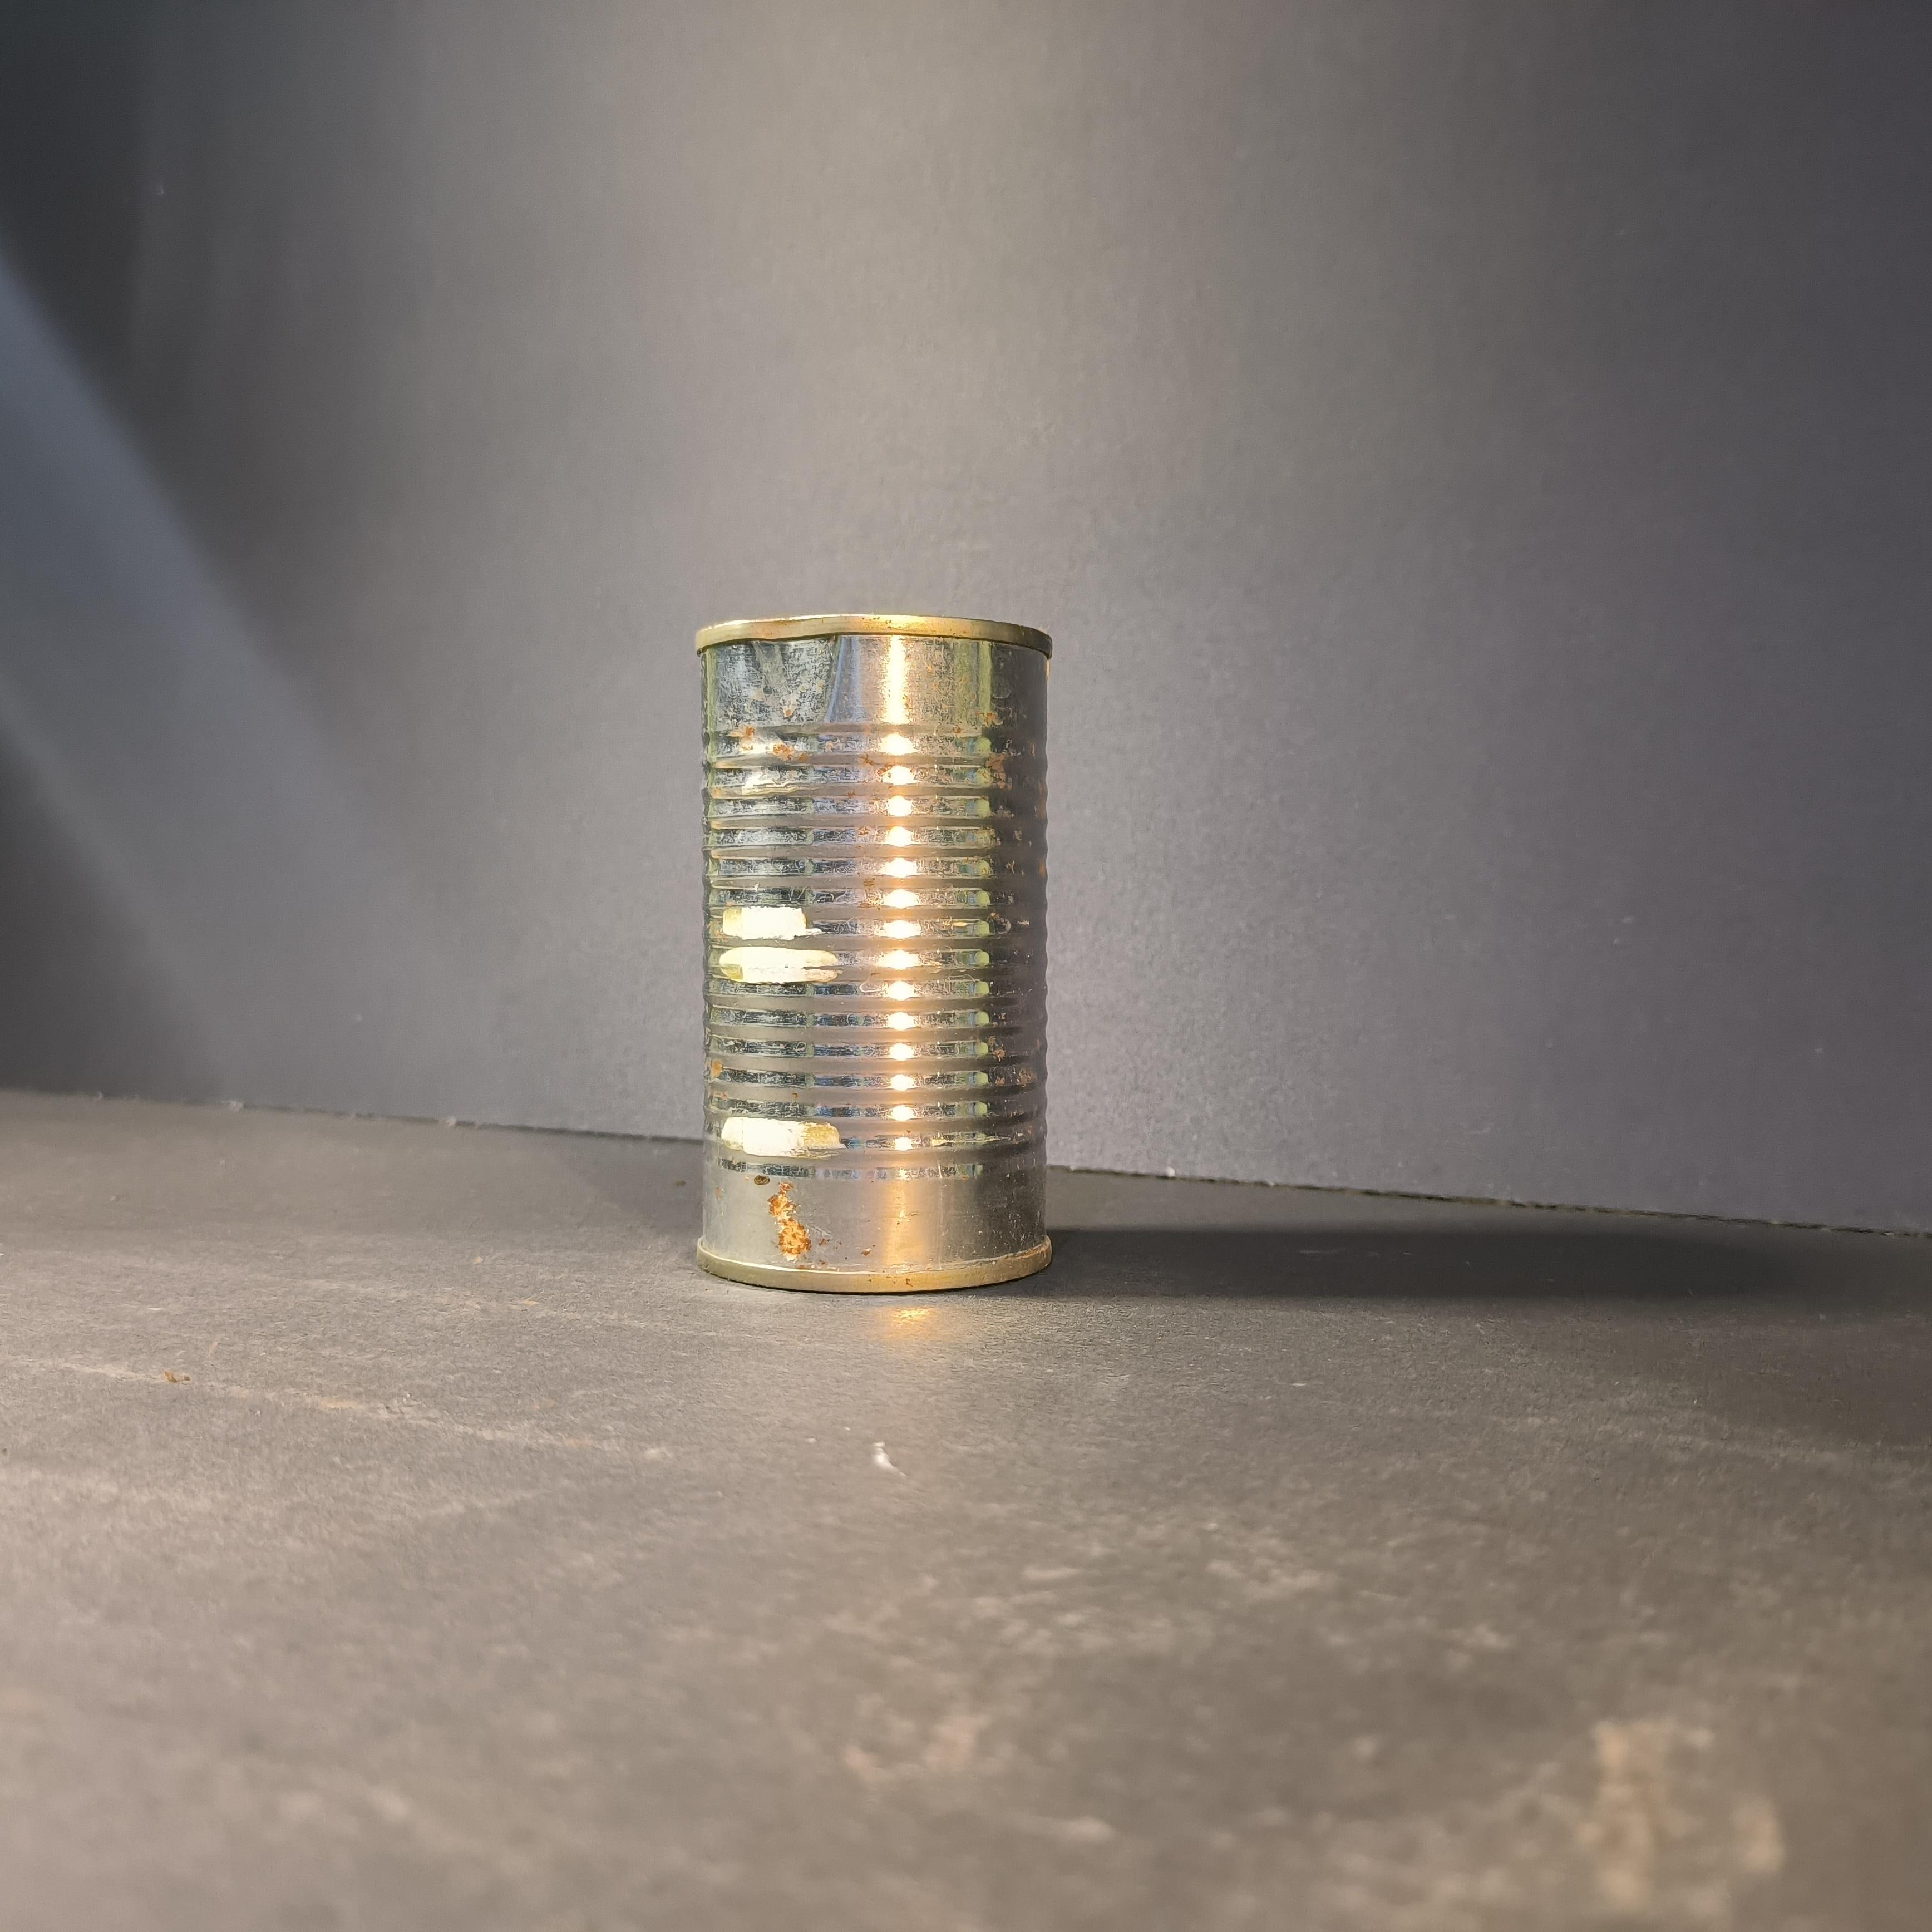Dented: (676, 598, 1079, 1302)
